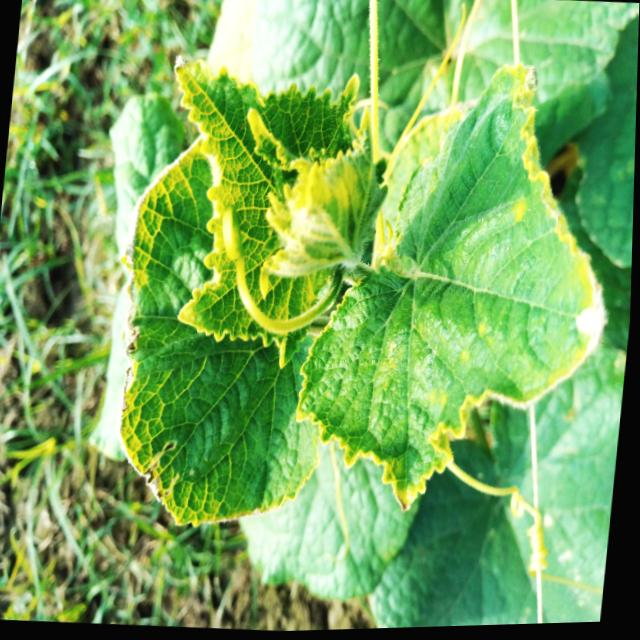Fresh-Leaf: (173, 61, 392, 370)
